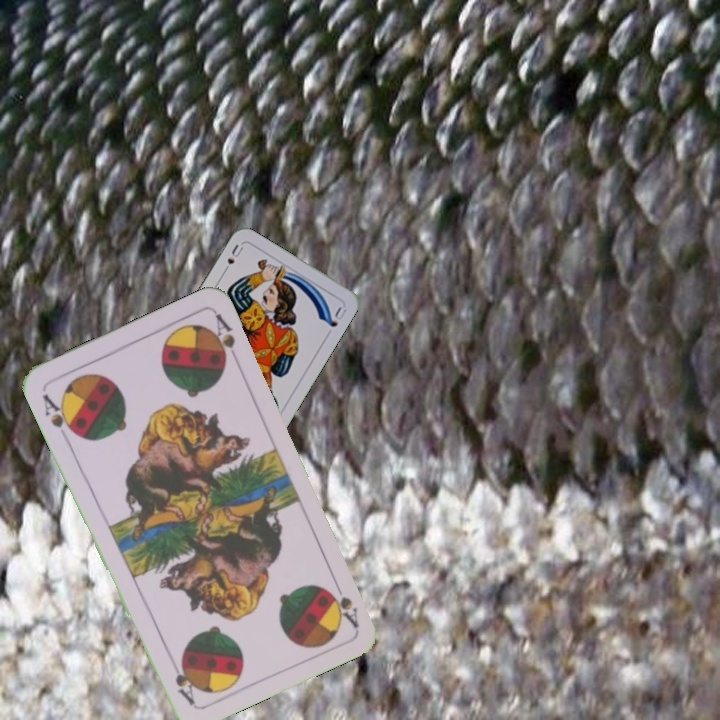SA: (38, 390, 80, 444), (326, 574, 361, 630)
SU: (218, 240, 246, 277)
